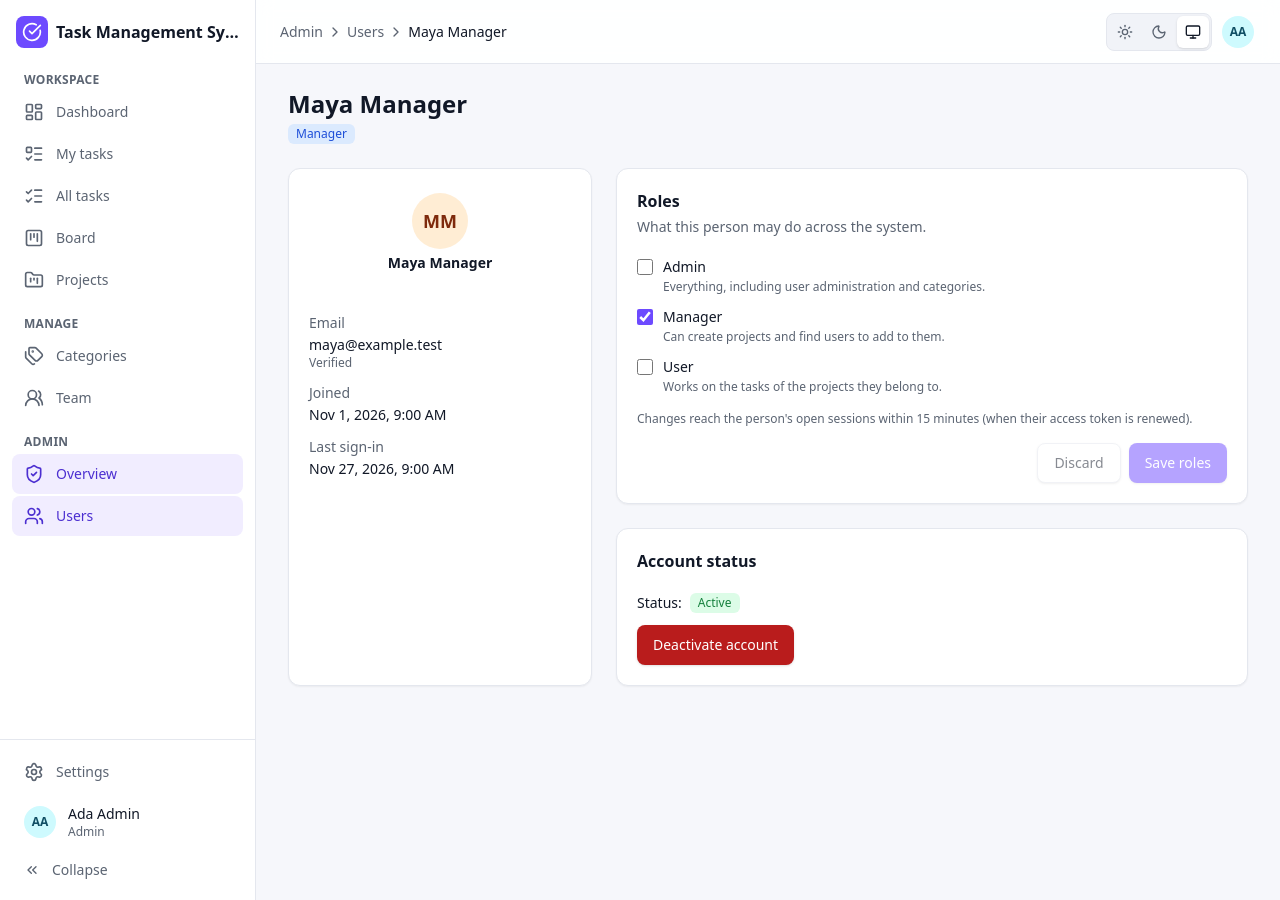
Admin › User details › changes another account's roles (at least one required)
The width and height of the screenshot is (1280, 900).
Expected: the heading "Maya Manager" is shown, left=288, top=88, right=467, bottom=120
Click the checkbox labelled "Manager" at (645, 317), box left=637, top=309, right=653, bottom=325
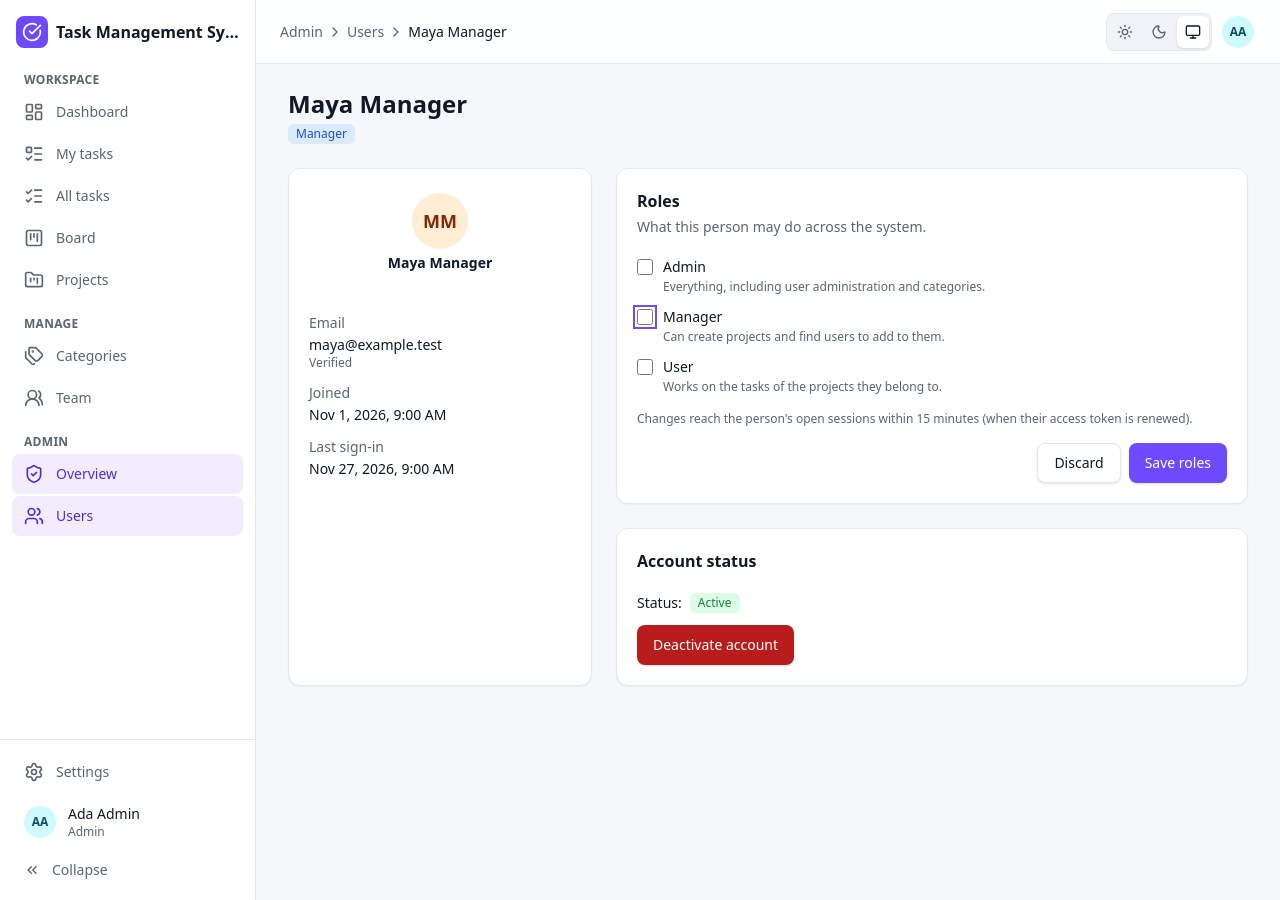
Click the button "Save roles" at (1178, 463), box left=1129, top=443, right=1227, bottom=483
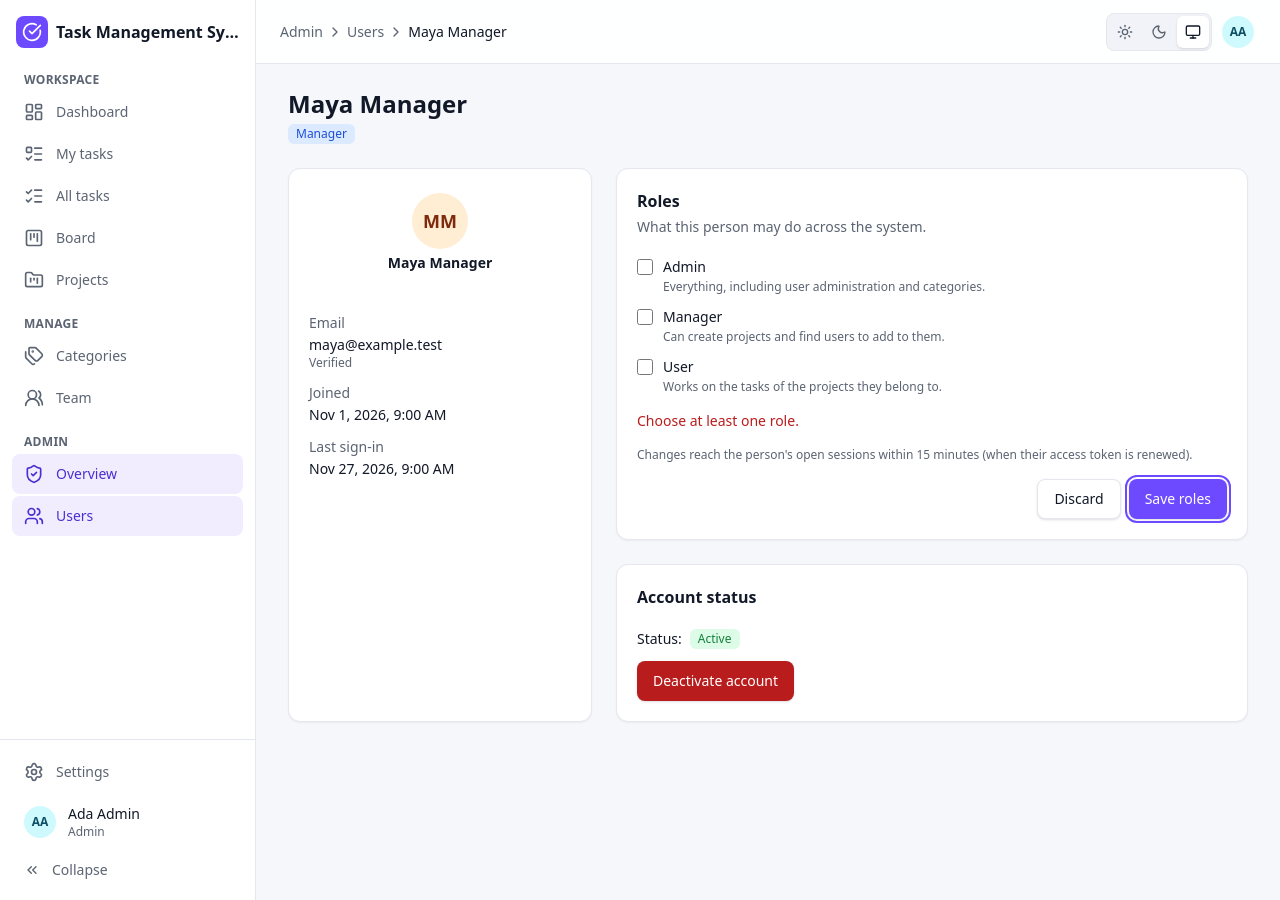
Result: the message reads "Choose at least one role." at left=637, top=411, right=799, bottom=430
Click the checkbox labelled "User" at (645, 367), box left=637, top=359, right=653, bottom=375
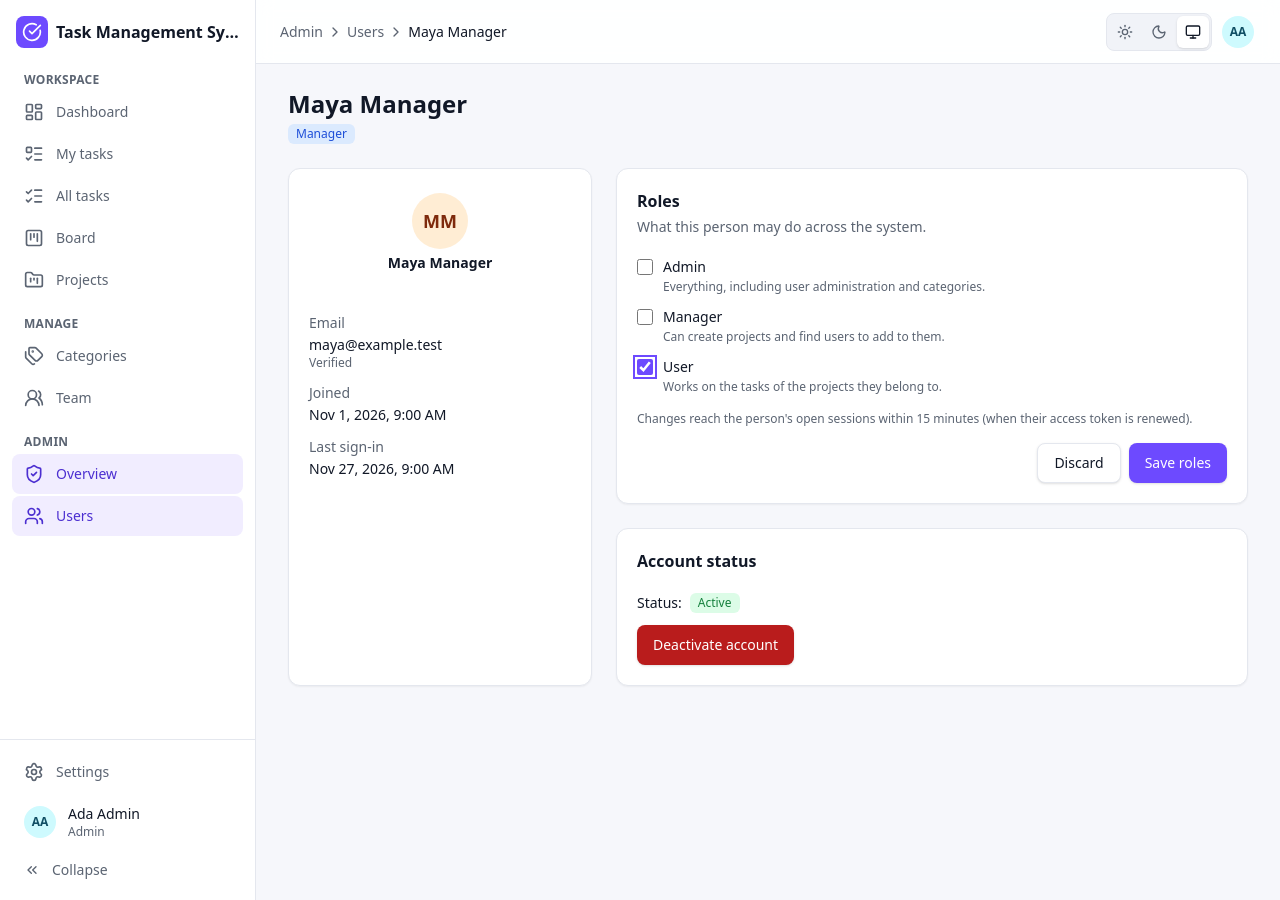
Click the checkbox labelled "Admin" at (645, 267), box left=637, top=259, right=653, bottom=275
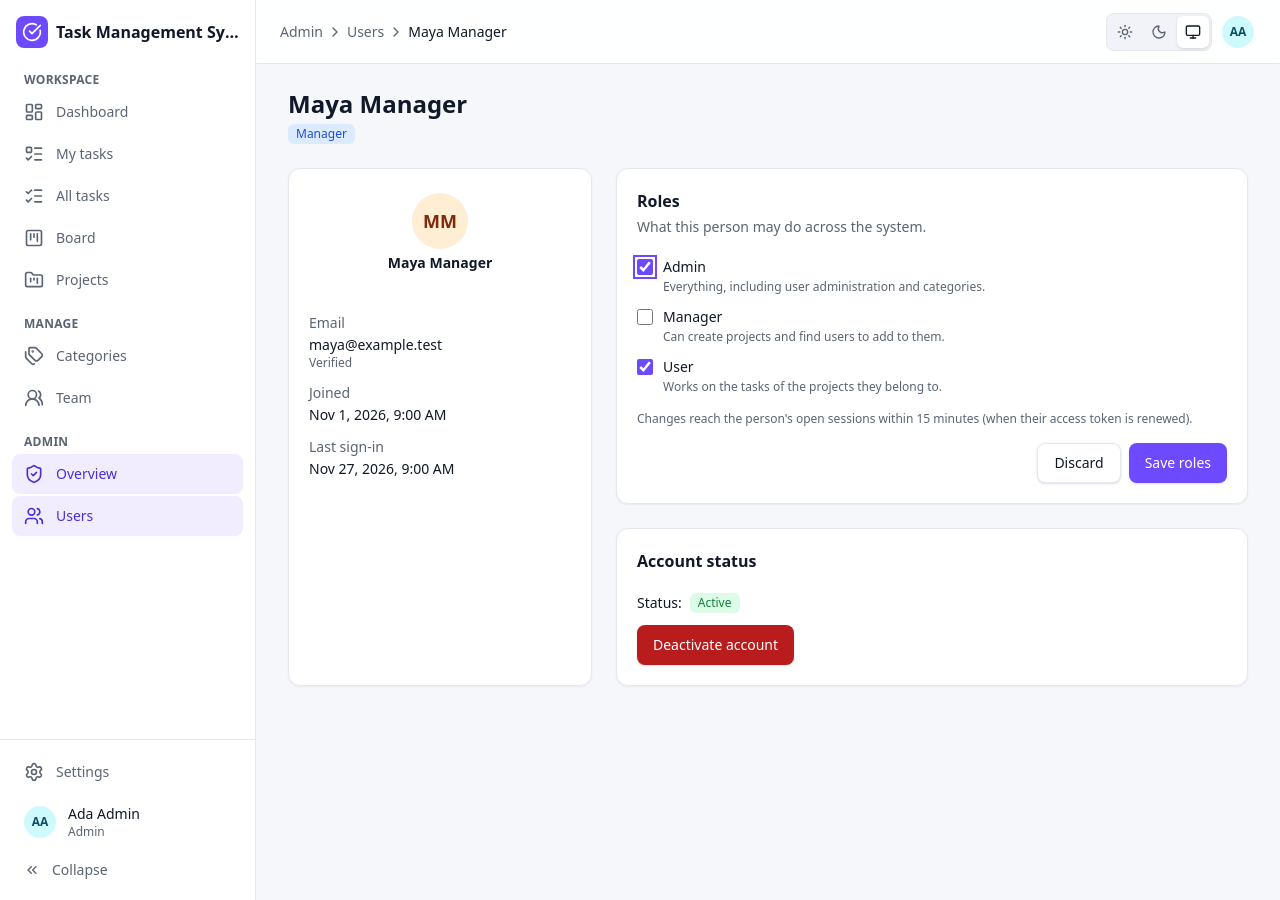
Click the button "Save roles" at (1178, 463), box left=1129, top=443, right=1227, bottom=483
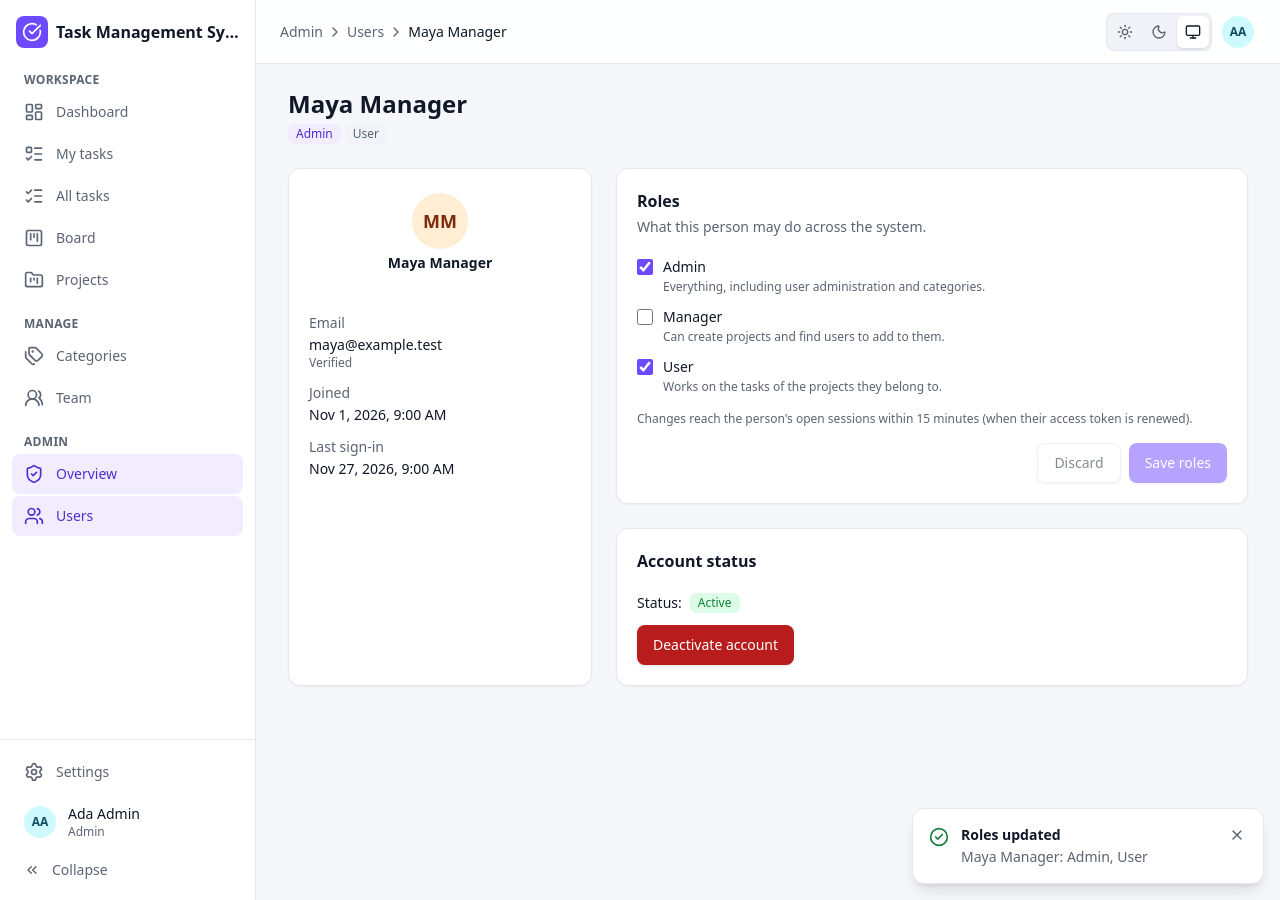
Result: the text "Roles updated" is shown at left=961, top=825, right=1061, bottom=844
